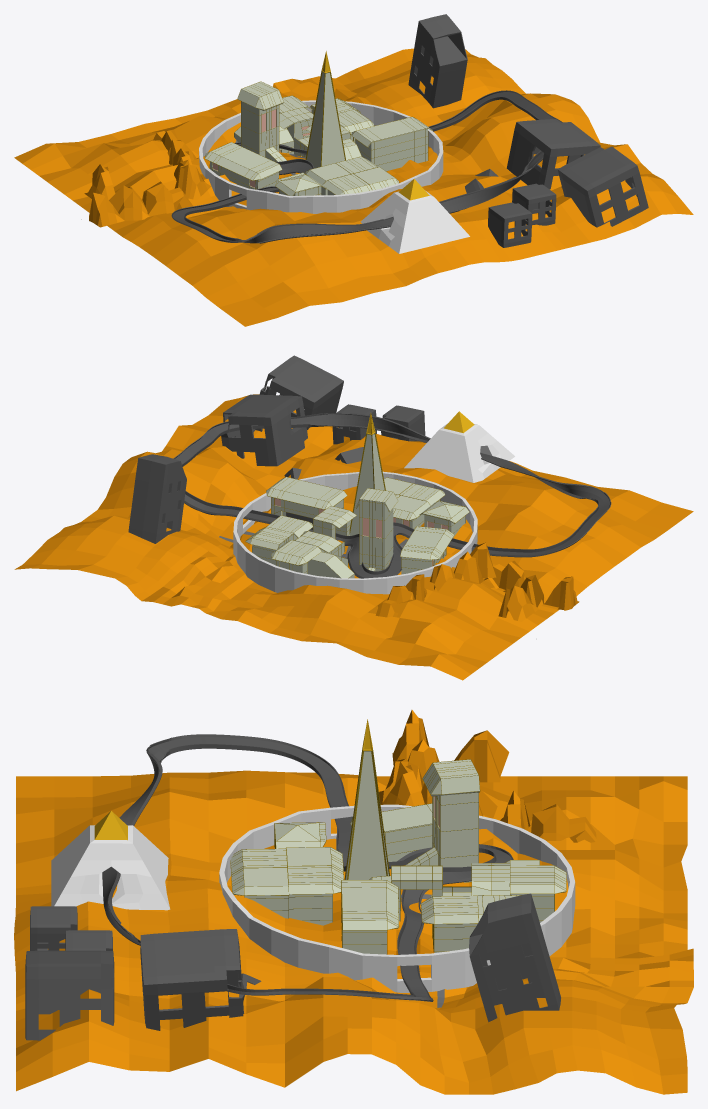
Rendered from JWT_P_Sand DUne.fbx.
The picture shows the model from 3 angles, top to bottom: view 1: azimuth 30°, elevation 25°; view 2: azimuth 150°, elevation 25°; view 3: azimuth 270°, elevation 25°; orthographic projection. The views are drawn at different scales.
Visible parts, largest first — view 1: Plane, Cylinder, Cube.014, Pyramid, Cube.018, Cube.012, Cube.017, Cube.003, Cube.001, Cube.002, Cube.007, Cube (+14 smaller); view 2: Plane, Cylinder, Cube.012, Cube.017, Cube.018, Pyramid, Cube.014, Cube.001, Cube, Cube.003, Cube.016, Cube.007 (+16 smaller); view 3: Plane, Cylinder, Cube.017, Cube.018, Pyramid, Cube.014, Cube.012, Cube.001, Cube.002, Cube.003, Cube, Cube.006 (+17 smaller).
Boxes of the visible parts, x1,y1,x2,y2 form: Plane: (14, 48, 693, 326); Cylinder: (199, 100, 443, 213); Cube.014: (558, 146, 648, 227); Pyramid: (360, 179, 469, 253); Cube.018: (408, 14, 467, 108); Cube.012: (172, 92, 554, 242); Cube.017: (506, 119, 600, 189); Cube.003: (351, 116, 432, 171); Cube.001: (237, 81, 287, 174); Cube.002: (305, 51, 345, 168); Cube.007: (204, 142, 282, 189); Cube: (234, 107, 361, 160); Plane: (14, 394, 693, 680); Cylinder: (233, 471, 477, 594); Cube.012: (175, 414, 609, 578); Cube.017: (221, 394, 307, 466); Cube.018: (128, 454, 186, 543); Pyramid: (404, 411, 514, 482); Cube.014: (259, 355, 343, 430); Cube.001: (356, 488, 397, 571); Cube: (295, 506, 356, 578); Cube.003: (266, 477, 347, 524); Cube.016: (182, 424, 599, 574); Cube.007: (400, 526, 454, 574); Plane: (14, 770, 693, 1094); Cylinder: (219, 804, 575, 992); Cube.017: (140, 929, 244, 1030); Cube.018: (469, 893, 560, 1022); Pyramid: (51, 811, 170, 910); Cube.014: (25, 950, 114, 1040); Cube.012: (103, 737, 511, 1001); Cube.001: (405, 759, 480, 882); Cube.002: (344, 719, 390, 879); Cube.003: (341, 880, 399, 954); Cube: (369, 860, 539, 937); Cube.006: (287, 865, 344, 925).
Bounding box in the file's own units: 208615 × 63317 × 181435.
